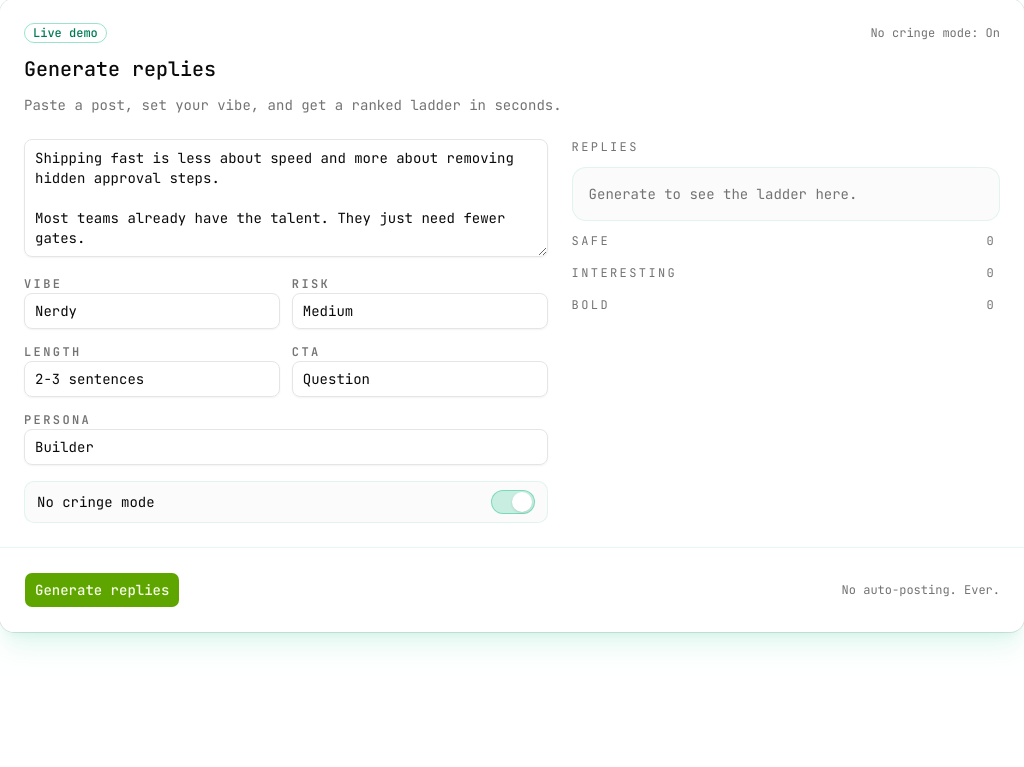
Scenario: DemoGenerator › rewrites the intended reply, not the first item in the list
The width and height of the screenshot is (1024, 767).
Click the button "Generate replies".
click(102, 590)  # box [24,572,180,608]
(page scrolled)
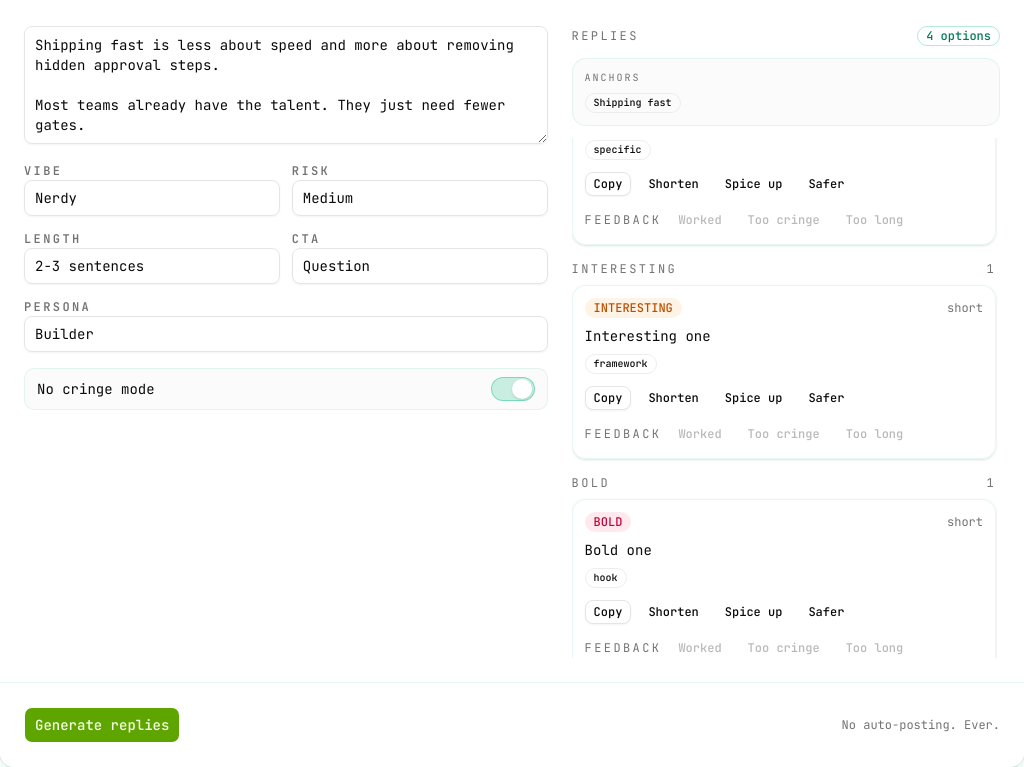
Check: the text "Interesting one" is shown, box [585,327,711,345]
Click the button "Spice up" below "framework".
click(754, 398)  # box [716,386,791,410]
(page scrolled)
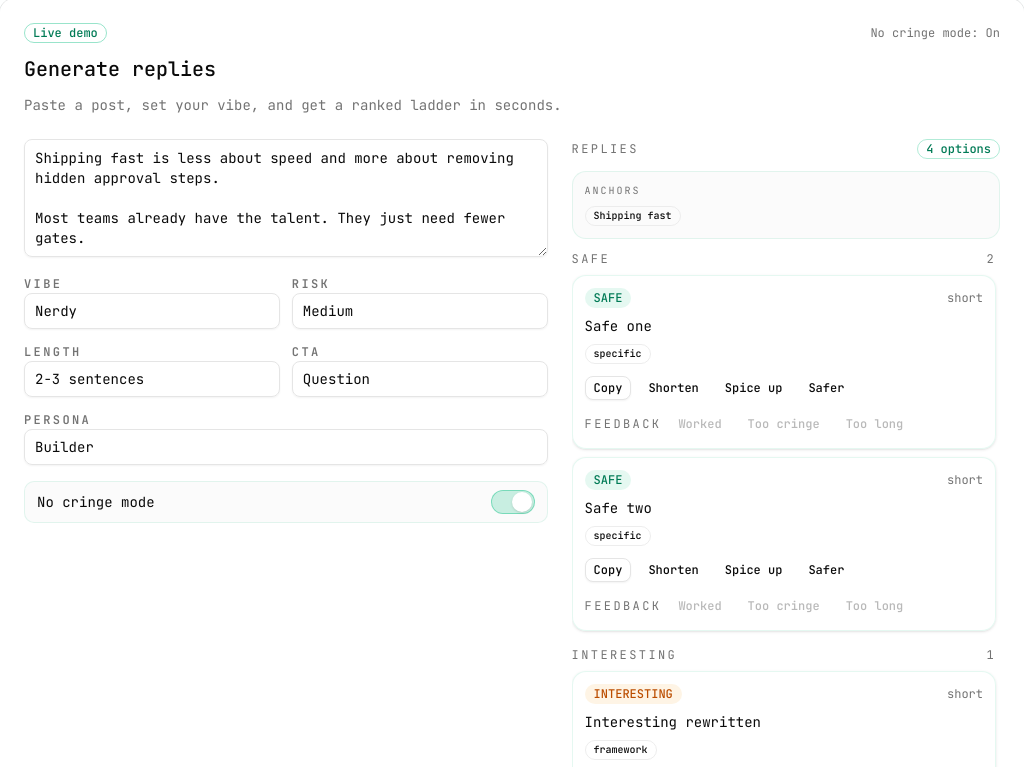
Check: the text "Interesting rewritten" is shown, box [585,713,761,731]
Check: the text "Safe one" is shown, box [585,317,652,335]
